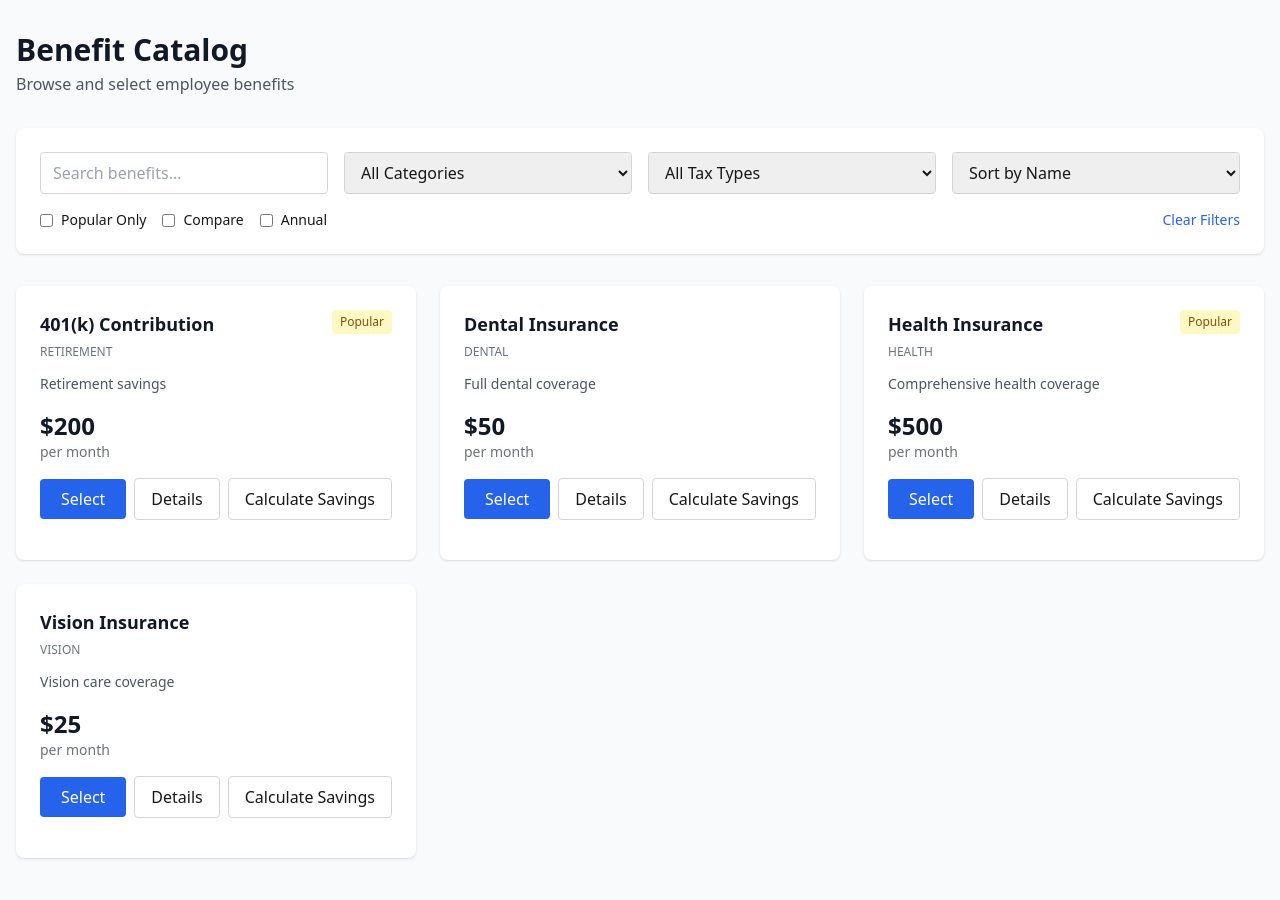
Test: BenefitCatalog Component › Tax Savings Calculator › should show annual savings
The image size is (1280, 900).
Expected: the heading "Health Insurance" is shown, [888,310,1043,338]
Click the checkbox labelled "Annual": x=266, y=220 [260,214,273,226]
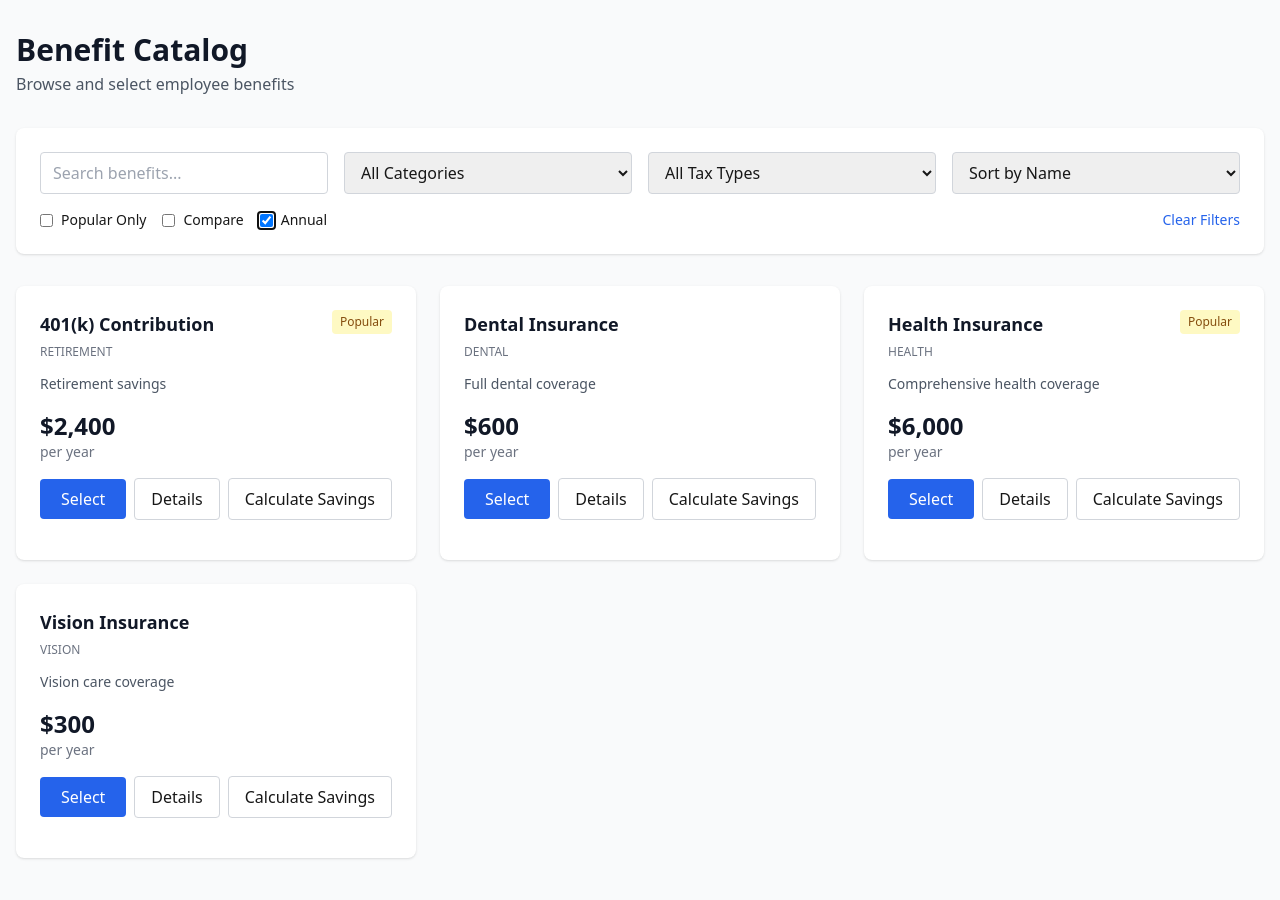
Expected: the text "$6,000" is shown, [888,409,964,442]
